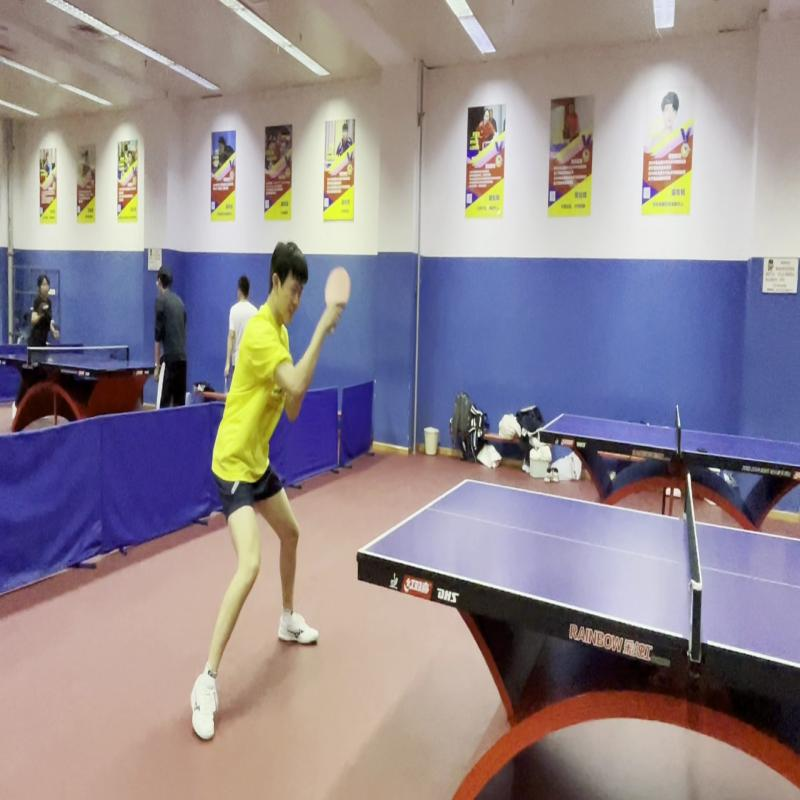bats: (324, 260, 356, 332)
